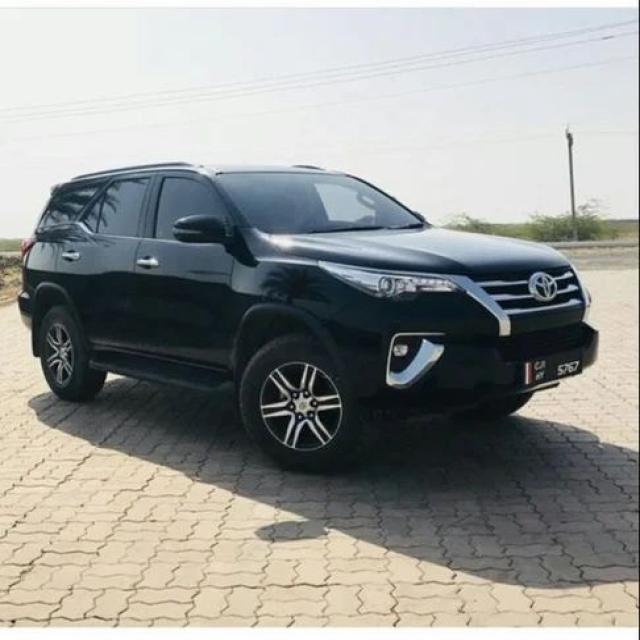light_vehicle: (17, 162, 599, 472)
